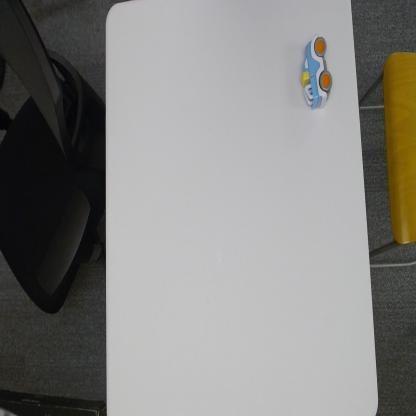Car: (300, 33, 333, 112)
